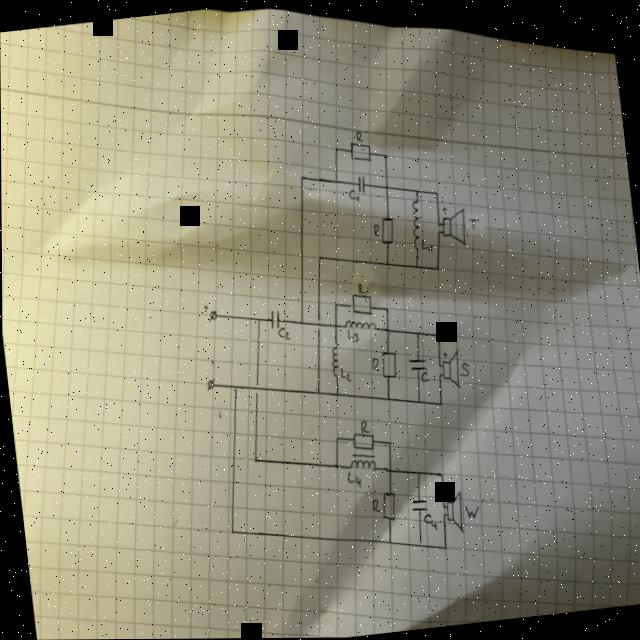capacitor: (408, 357, 427, 373), (409, 497, 426, 513), (268, 309, 280, 330), (356, 175, 366, 195)
crossover: (312, 313, 322, 338), (252, 379, 260, 400)
inductor: (408, 200, 423, 251), (348, 451, 376, 474), (343, 316, 376, 335), (329, 346, 340, 379)
junction: (416, 539, 423, 550), (299, 174, 306, 184), (332, 175, 339, 185), (254, 314, 261, 324), (333, 146, 340, 155), (381, 152, 388, 161), (383, 183, 390, 192), (384, 260, 391, 269), (315, 254, 322, 263), (413, 187, 420, 196), (432, 189, 439, 198), (433, 263, 440, 272), (412, 262, 419, 271), (332, 301, 339, 310), (382, 305, 389, 314), (382, 326, 389, 335), (331, 322, 338, 331), (333, 390, 340, 399), (313, 388, 320, 397), (384, 394, 391, 403), (412, 329, 419, 338), (434, 330, 441, 339), (437, 399, 444, 408), (415, 397, 422, 406), (250, 455, 257, 464), (332, 462, 339, 471), (333, 434, 340, 443), (386, 439, 393, 448), (385, 465, 392, 474), (414, 468, 421, 477), (437, 470, 444, 479), (440, 543, 447, 552), (384, 538, 391, 547), (228, 526, 235, 535), (231, 383, 238, 392), (298, 318, 305, 327)
resistor: (349, 291, 373, 317), (379, 349, 398, 380), (378, 491, 397, 522), (348, 140, 372, 164), (350, 431, 374, 453), (378, 216, 395, 245)
terminal: (206, 308, 219, 323), (205, 378, 216, 391)
text: (421, 512, 438, 532), (345, 469, 361, 490), (462, 503, 480, 520), (338, 365, 351, 383), (345, 327, 359, 343), (275, 325, 289, 341), (419, 237, 432, 253), (369, 498, 381, 515), (467, 217, 480, 232), (458, 359, 468, 378), (348, 188, 360, 203), (358, 419, 369, 434), (369, 357, 379, 373), (418, 370, 429, 383), (354, 130, 364, 143), (356, 282, 365, 295)
